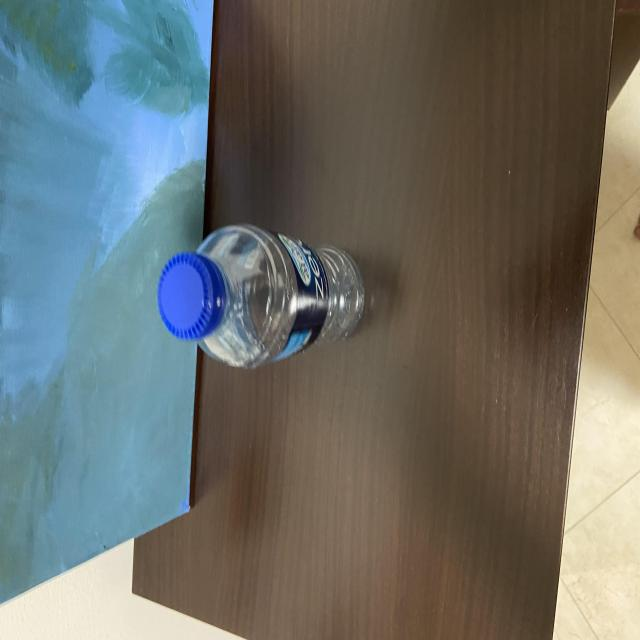plastic: (153, 217, 372, 373)
